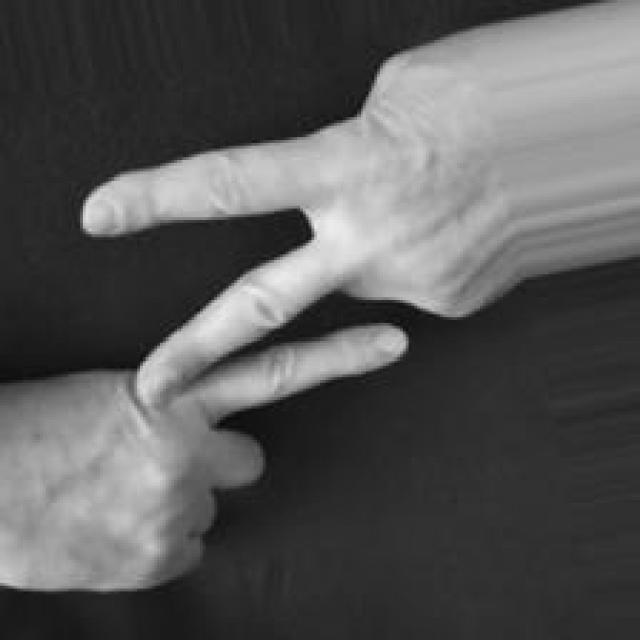Z: (0, 103, 522, 588)
